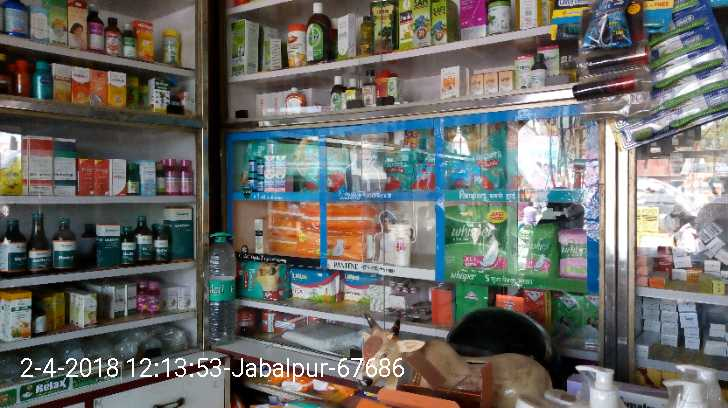oralcare: (628, 100, 728, 148), (633, 54, 726, 91), (644, 10, 720, 54)
vicks: (276, 156, 291, 175), (276, 175, 292, 192), (265, 155, 275, 175), (265, 175, 275, 192), (248, 157, 256, 174), (248, 174, 256, 191), (257, 159, 265, 175), (257, 175, 263, 192)
